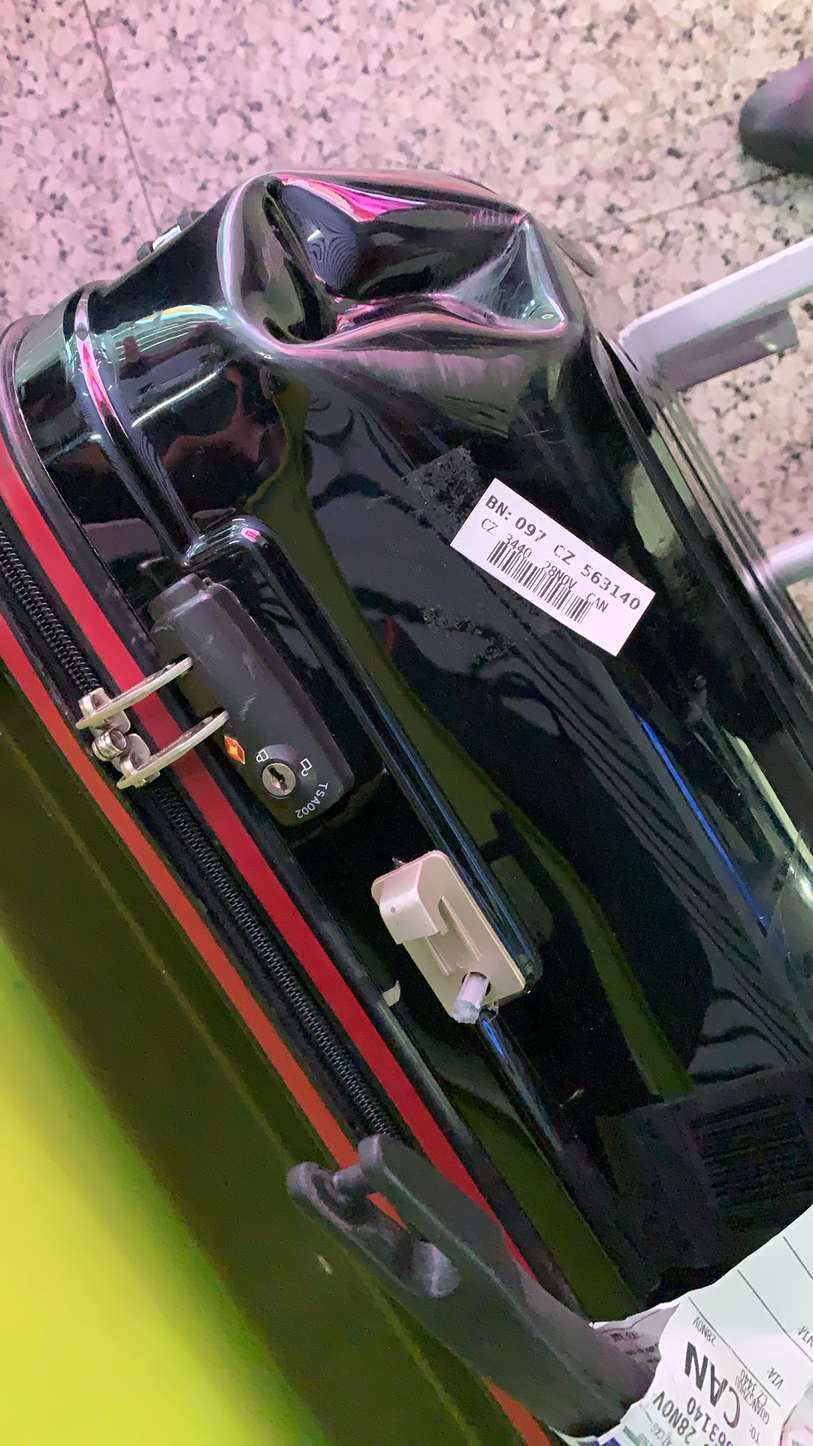rupture: (215, 170, 586, 365)
